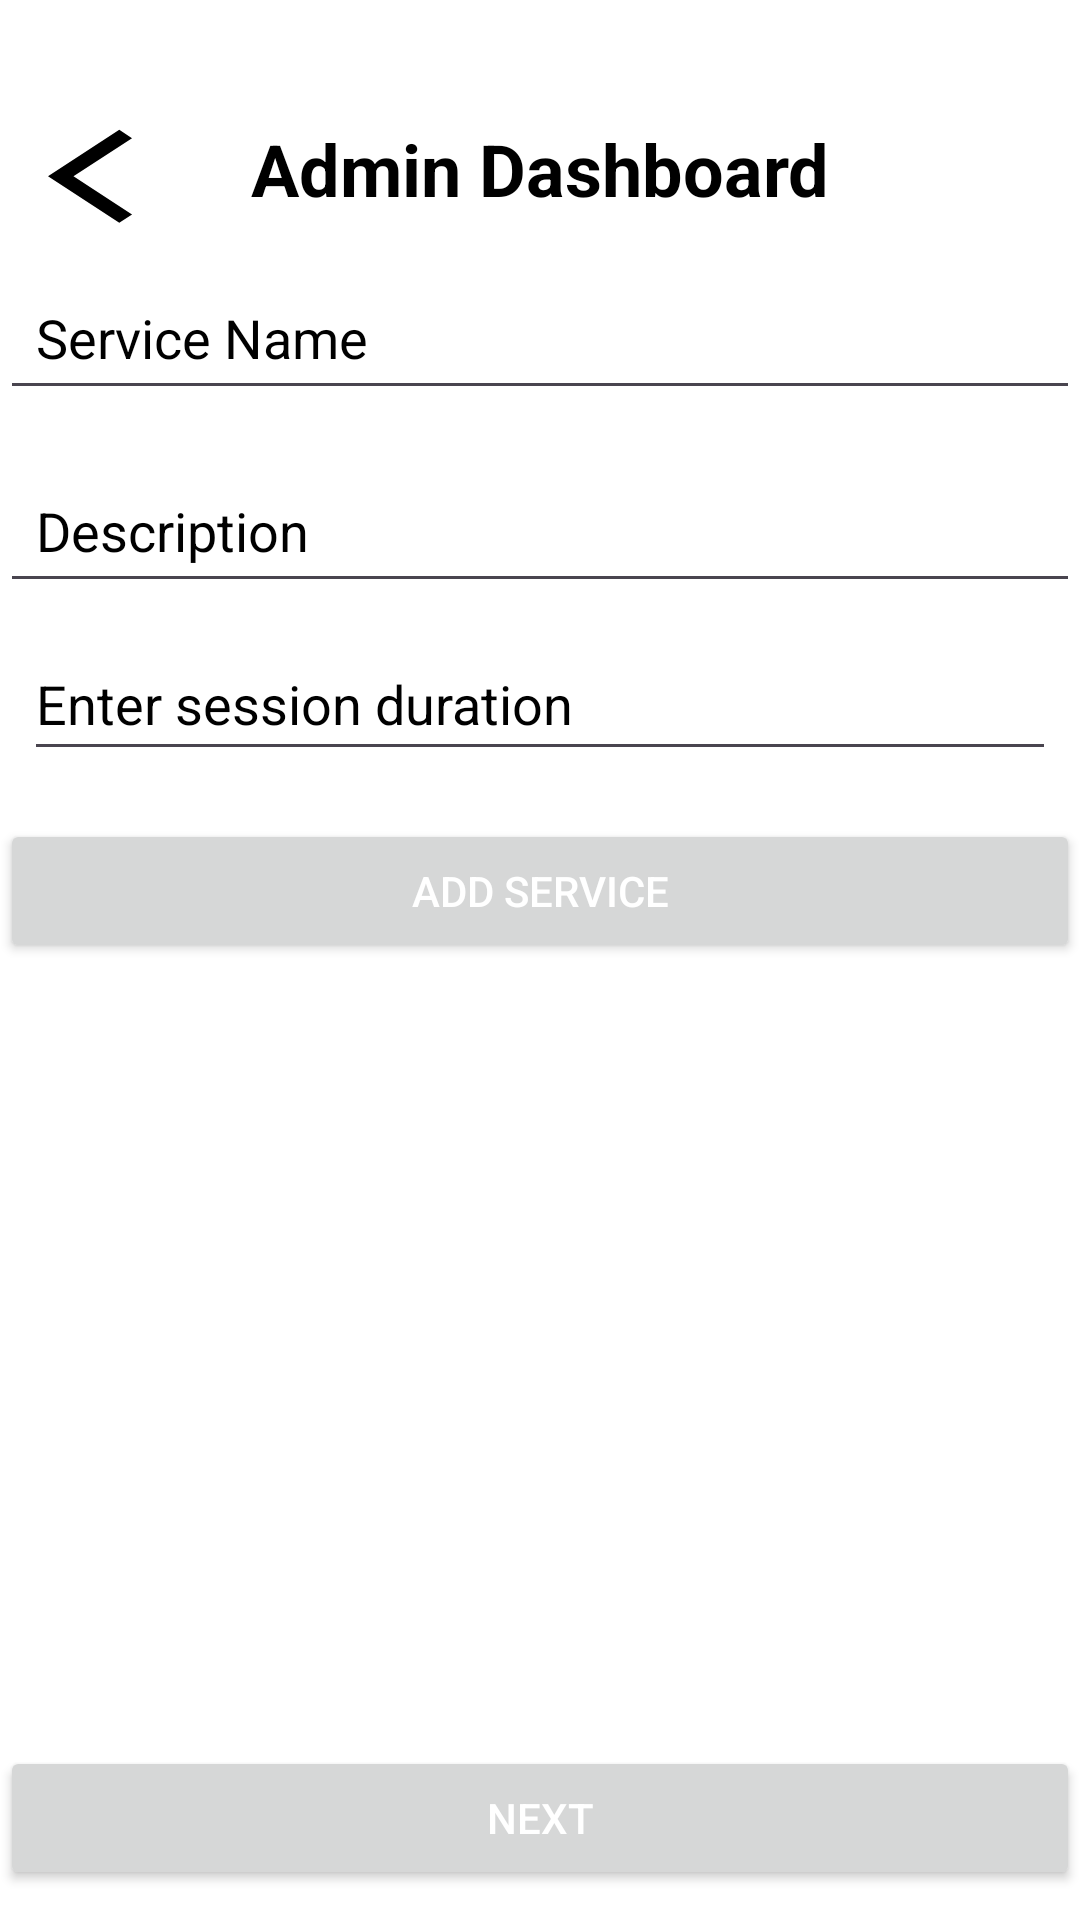

Named icons in this screenshot (1080px×1920px) and their bounding boxes, [x1,y1,x2,y2]:
Back Button: [48,129,132,223]
